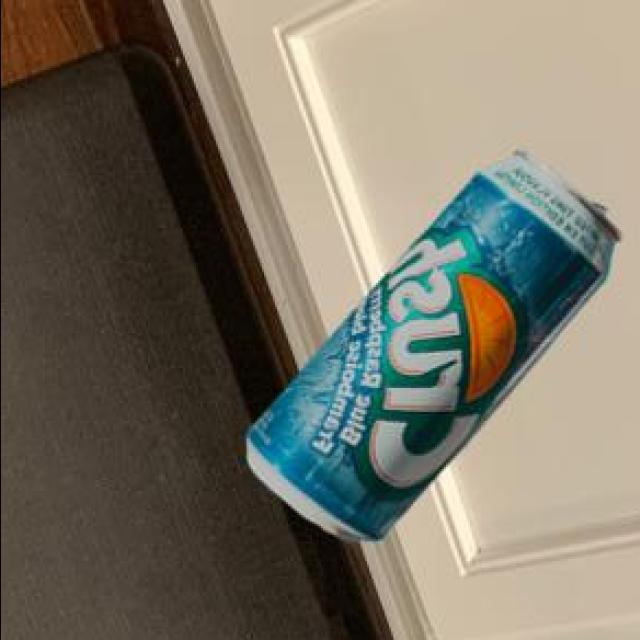logam: (249, 155, 624, 547)
